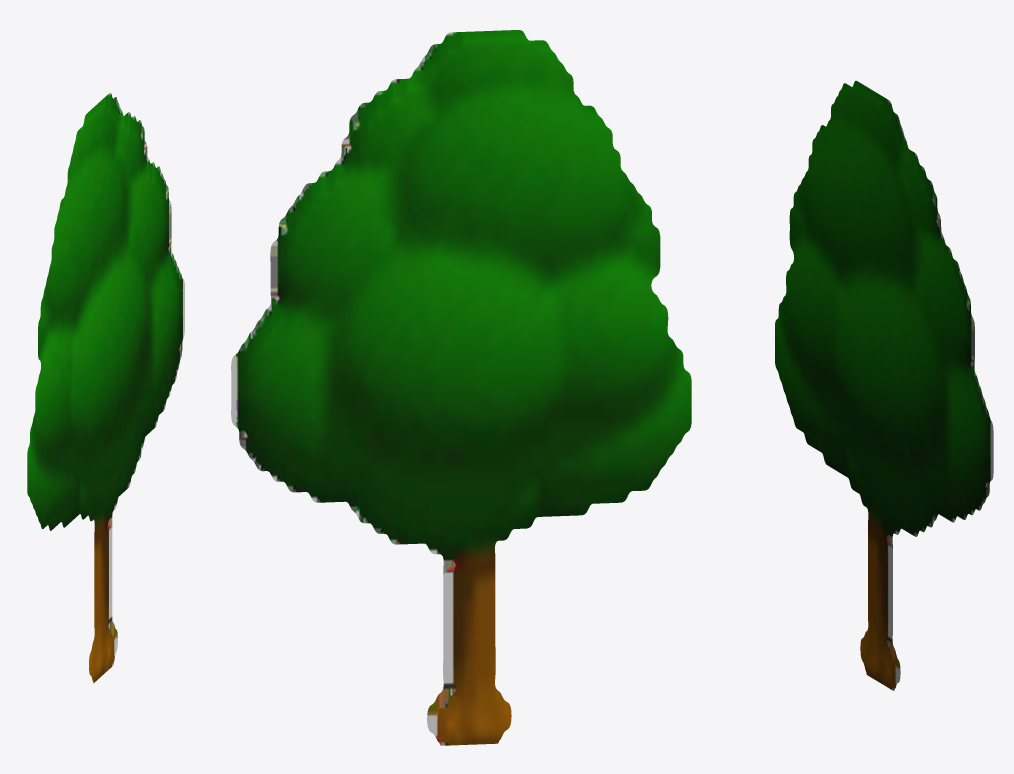
Rendered from Tree_Viewer.FBX.
3 views of the same model, side by side, from view 1: azimuth 30°, elevation 25°; view 2: azimuth 150°, elevation 25°; view 3: azimuth 270°, elevation 25° (orthographic). The views are drawn at different scales.
Parts seen in each view (by area): view 1: Plane002; view 2: Plane002; view 3: Plane002.
Boxes of the visible parts, x1,y1,x2,y2 form: Plane002: (27, 92, 184, 683); Plane002: (231, 30, 691, 745); Plane002: (775, 80, 993, 690).
Bounding box in the file's own units: 2.27 × 4.33 × 1.59.
Materials: 1 (1 with a texture image).
